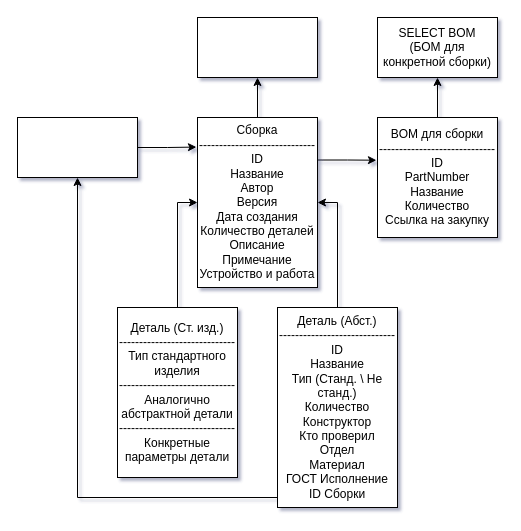
Some shapes in this 521 by 531 pixel diagram are drawn without their labels. The centre of each missing label's shape, as x and y in pixels:
"SELECT Сборки (Все сборки)" goes at point 257,47.
"SELECT Состав всех деталей (Все детали конкретной сборки)" goes at point 77,147.
